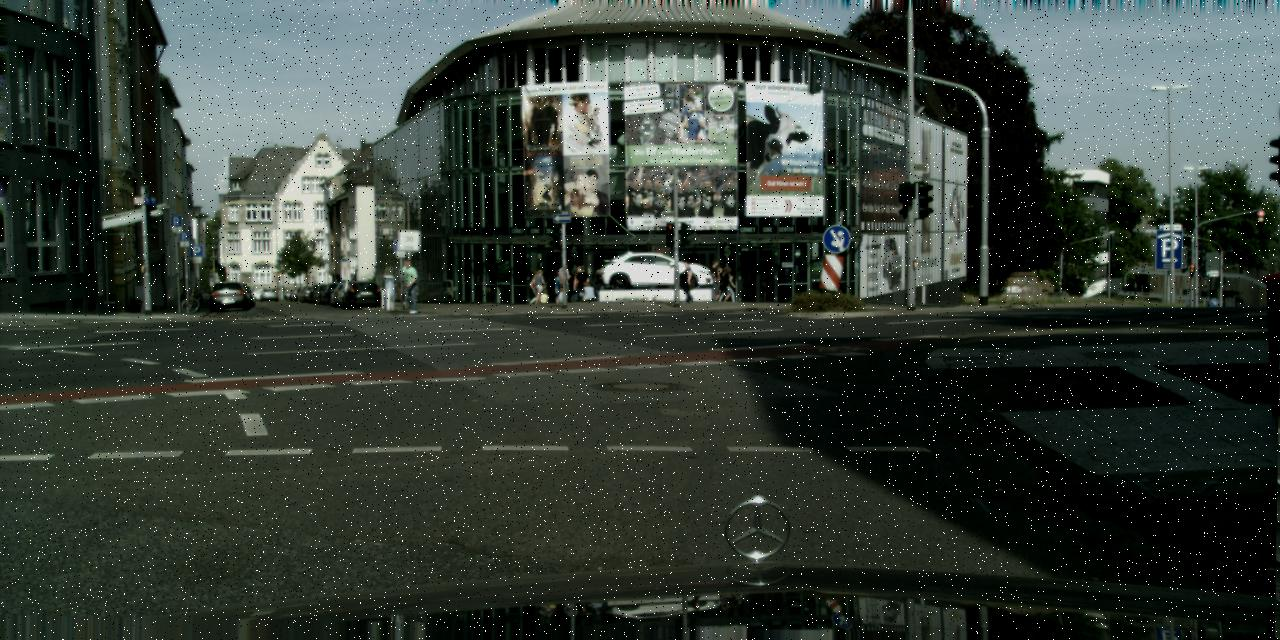ped: (401, 259, 421, 311), (554, 262, 572, 304), (718, 266, 738, 303), (704, 260, 721, 302), (680, 261, 696, 301), (574, 265, 588, 303), (712, 266, 726, 302), (552, 269, 566, 304), (532, 270, 546, 304), (592, 268, 606, 302), (529, 270, 542, 304)
